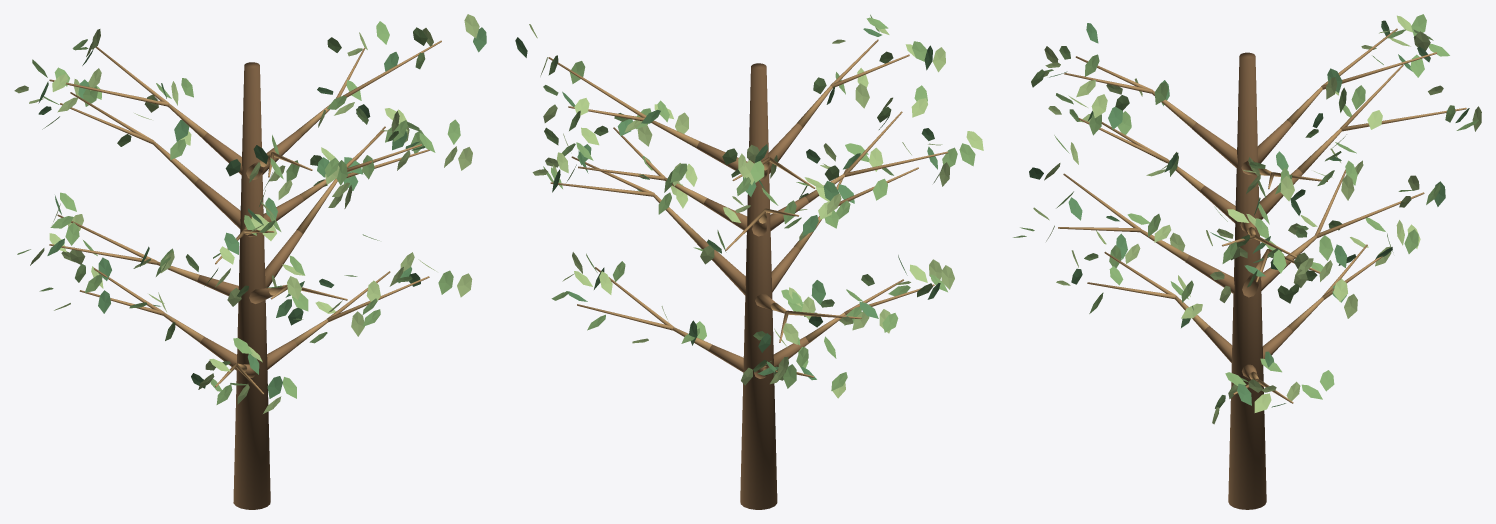
The model's file is leafy_sapling_b.glb.
The picture shows the model from 3 angles, left to right: view 1: azimuth 30°, elevation 25°; view 2: azimuth 150°, elevation 25°; view 3: azimuth 270°, elevation 25°; orthographic projection. The views are drawn at different scales.
Visible parts, largest first — view 1: leafy_sapling_b_trunk, leafy_sapling_b_branch_2_1_a, leafy_sapling_b_branch_1_0_a; view 2: leafy_sapling_b_trunk, leafy_sapling_b_branch_1_0_a; view 3: leafy_sapling_b_trunk, leafy_sapling_b_branch_3_2_a, leafy_sapling_b_branch_1_2_a, leafy_sapling_b_branch_3_1_a.
Part boxes in pixels (left/top/right/bottom): leafy_sapling_b_trunk: left=233, top=62, right=270, bottom=509; leafy_sapling_b_branch_2_1_a: left=194, top=178, right=240, bottom=228; leafy_sapling_b_branch_1_0_a: left=265, top=230, right=302, bottom=288; leafy_sapling_b_trunk: left=740, top=63, right=777, bottom=509; leafy_sapling_b_branch_1_0_a: left=697, top=239, right=745, bottom=295; leafy_sapling_b_trunk: left=1228, top=52, right=1266, bottom=509; leafy_sapling_b_branch_3_2_a: left=1191, top=122, right=1237, bottom=167; leafy_sapling_b_branch_1_2_a: left=1185, top=255, right=1234, bottom=293; leafy_sapling_b_branch_3_1_a: left=1257, top=120, right=1292, bottom=163.
Size of the model in its own units: 1.13 by 1.11 by 1.06.
